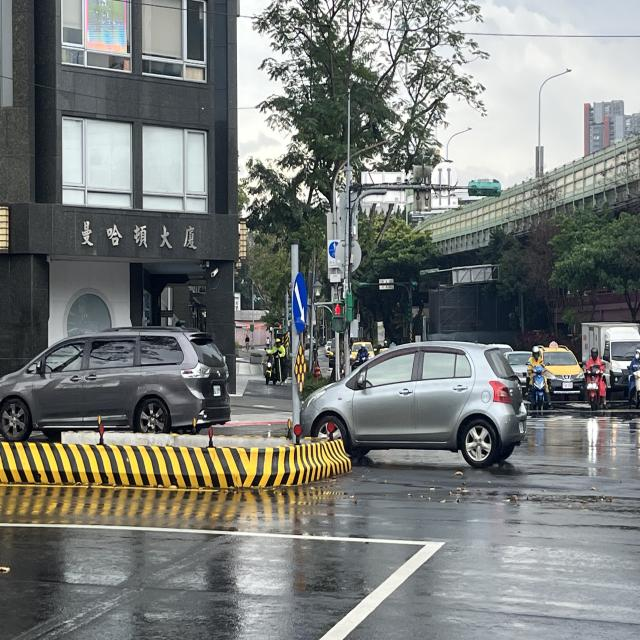red light: (332, 301, 343, 332)
